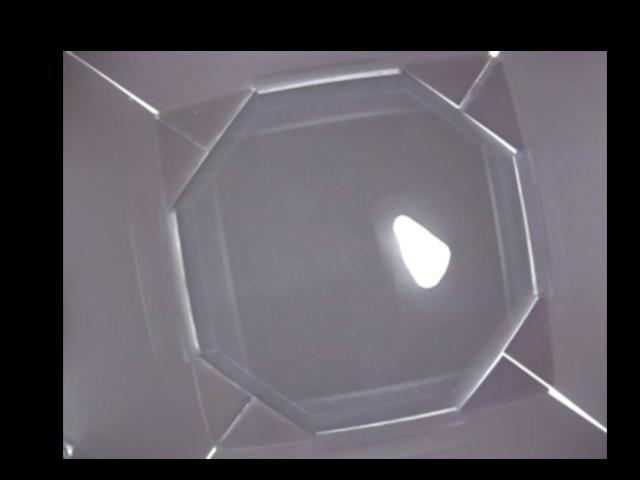Pebble: (393, 214, 453, 286)
